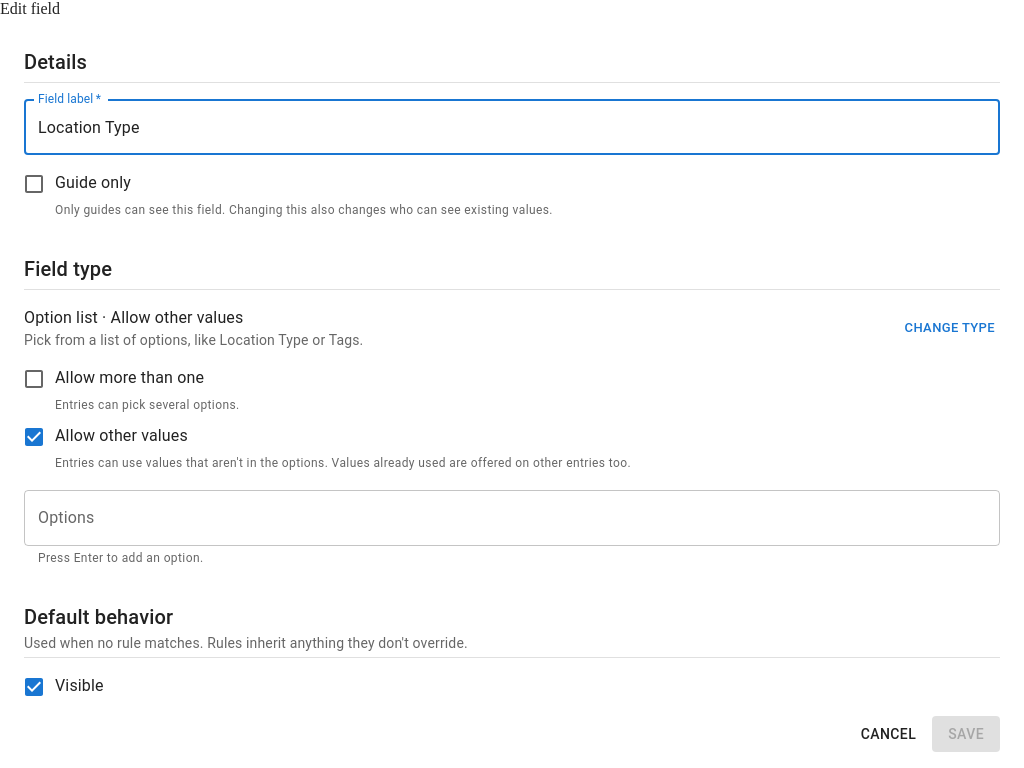
WorldFieldEditor › blocks a source type change that invalidates an ancestor selector
Click the button "Change type".
click(950, 328)  # box left=900, top=312, right=1000, bottom=343
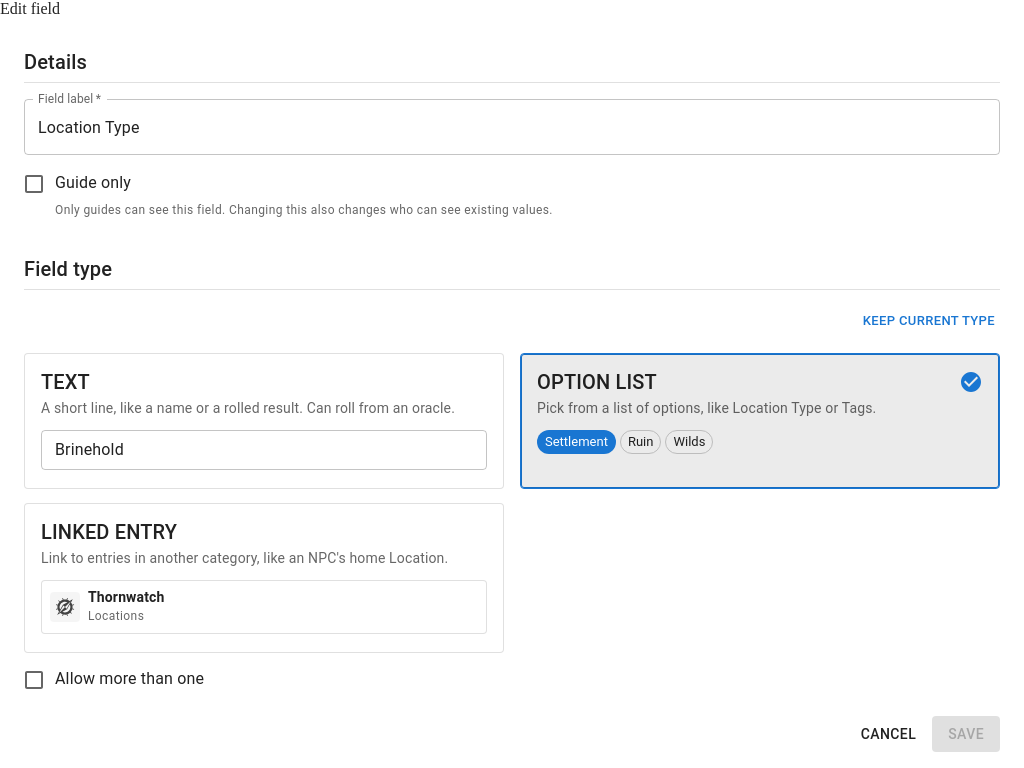
Click the radio button labelled "Text".
click(65, 382)  # box left=25, top=354, right=503, bottom=488
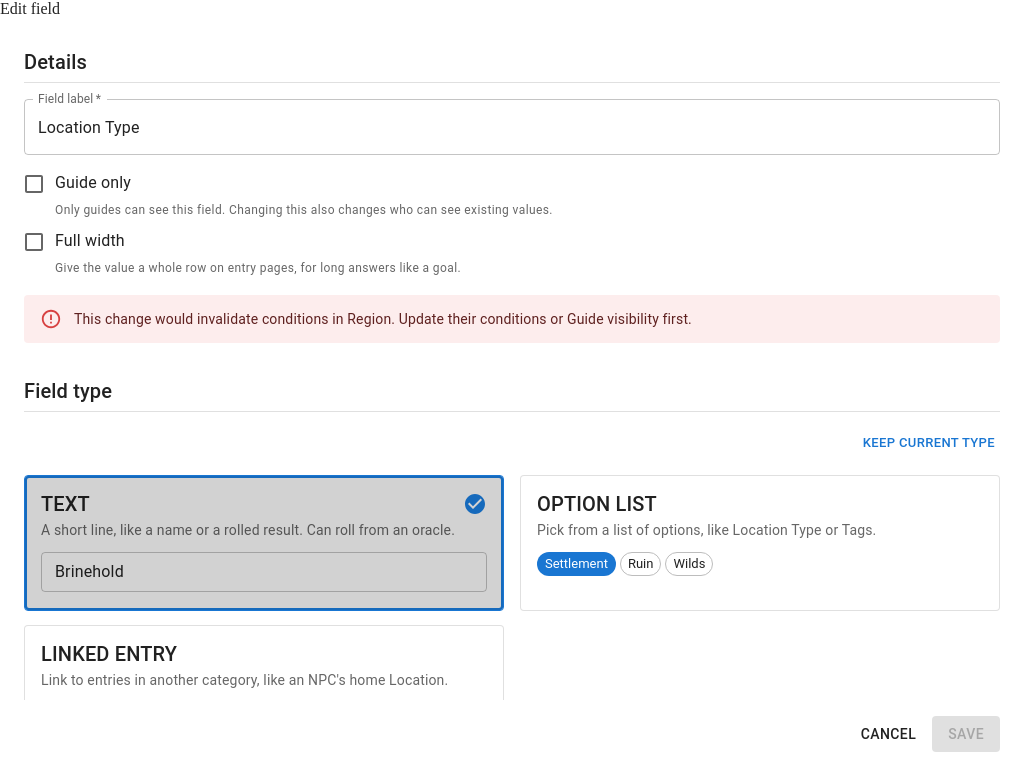
Check: the button "Save" is disabled, box left=932, top=716, right=1000, bottom=752
Check: the message shows "conditions in Region", box left=74, top=311, right=692, bottom=327
